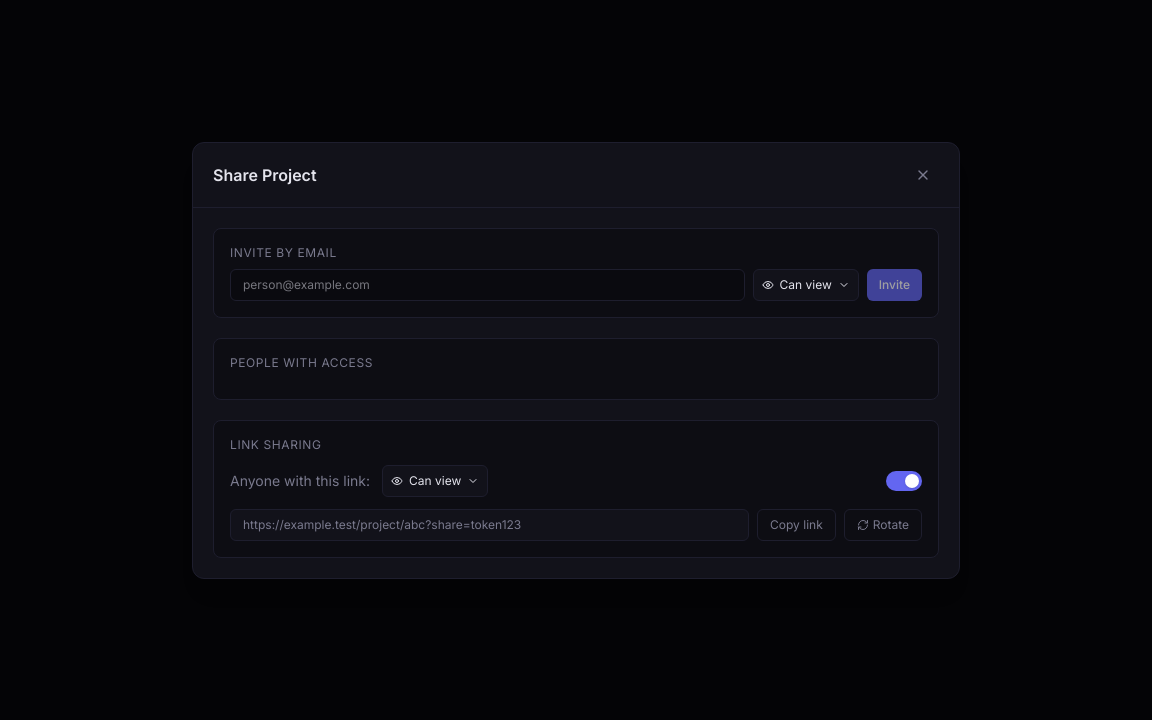
Scenario: ShareModal link sharing controls › supports engine-aware role options for whiteboards (view/edit only)
Step 1. Click the 1st button "Can view" → x=806, y=284, box [752, 268, 859, 300]
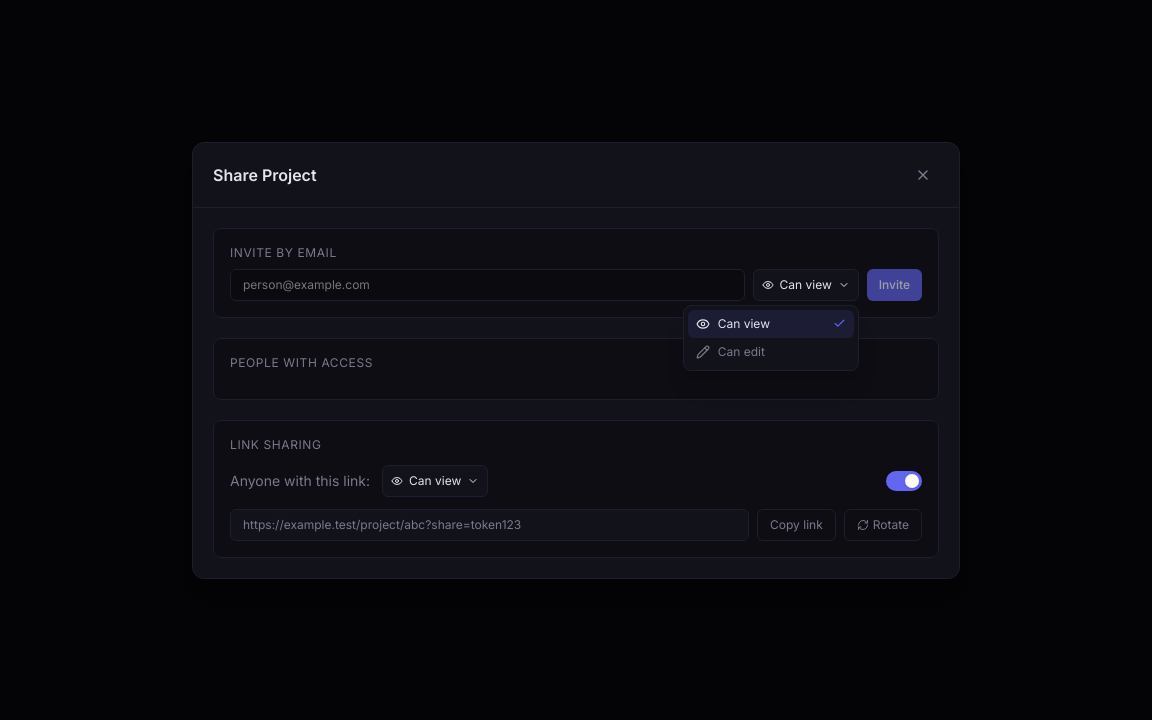
Expected: the 1st text "Can view" is shown, [780, 276, 832, 292]
Result: the text "Can edit" is shown at [718, 344, 765, 358]
